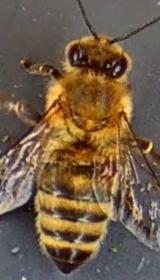varroa_mite: (91, 150, 119, 179)
